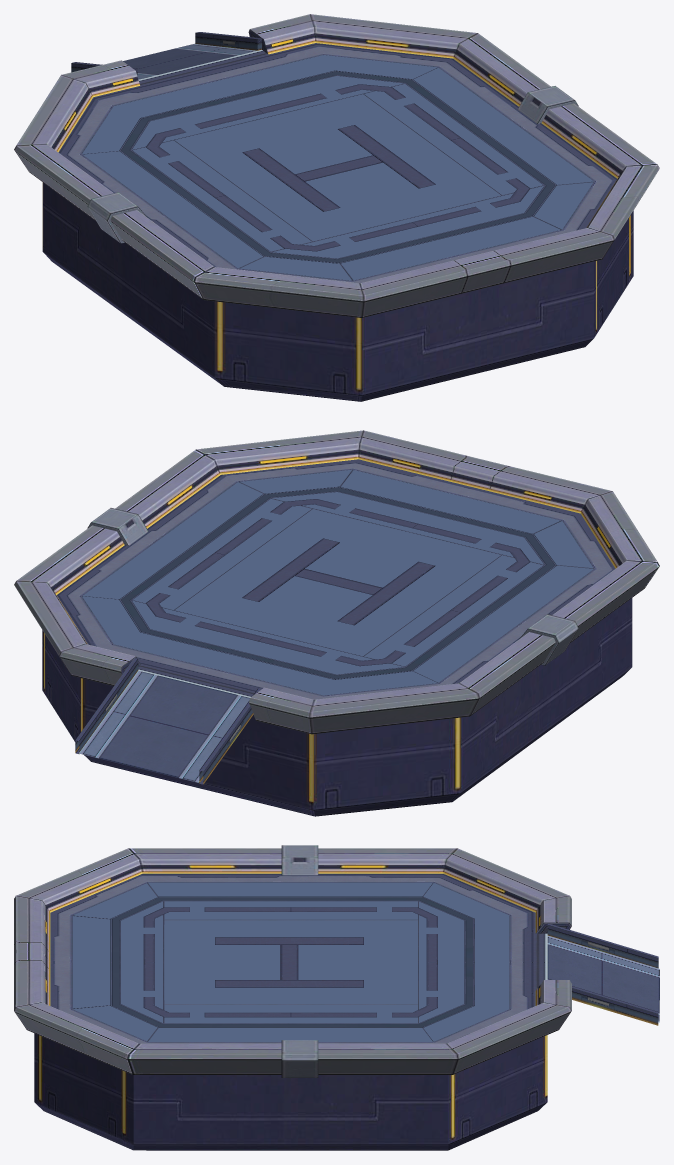
File: Scece_01_pingta06.FBX
3 renders of one model, top to bottom at view 1: azimuth 30°, elevation 25°; view 2: azimuth 150°, elevation 25°; view 3: azimuth 270°, elevation 25°, orthographic. The views are drawn at different scales.
Parts seen in each view (by area): view 1: Scece_01_pingta04_02, Scece_01_pingta04_01, Scece_01_pingta04_03; view 2: Scece_01_pingta04_02, Scece_01_pingta04_01, Scece_01_pingta04_03; view 3: Scece_01_pingta04_02, Scece_01_pingta04_01, Scece_01_pingta04_03.
Boxes of the visible parts, x1=… form: Scece_01_pingta04_02: x1=14, y1=14, x2=659, y2=401; Scece_01_pingta04_01: x1=82, y1=55, x2=593, y2=280; Scece_01_pingta04_03: x1=58, y1=32, x2=616, y2=283; Scece_01_pingta04_02: x1=14, y1=430, x2=659, y2=816; Scece_01_pingta04_01: x1=82, y1=469, x2=593, y2=695; Scece_01_pingta04_03: x1=56, y1=459, x2=615, y2=784; Scece_01_pingta04_02: x1=14, y1=845, x2=571, y2=1150; Scece_01_pingta04_01: x1=72, y1=882, x2=509, y2=1041; Scece_01_pingta04_03: x1=50, y1=873, x2=659, y2=1043.
Size of the model in its own units: 8.09 by 2.01 by 10.48.
Materials: 3 (3 with a texture image).
